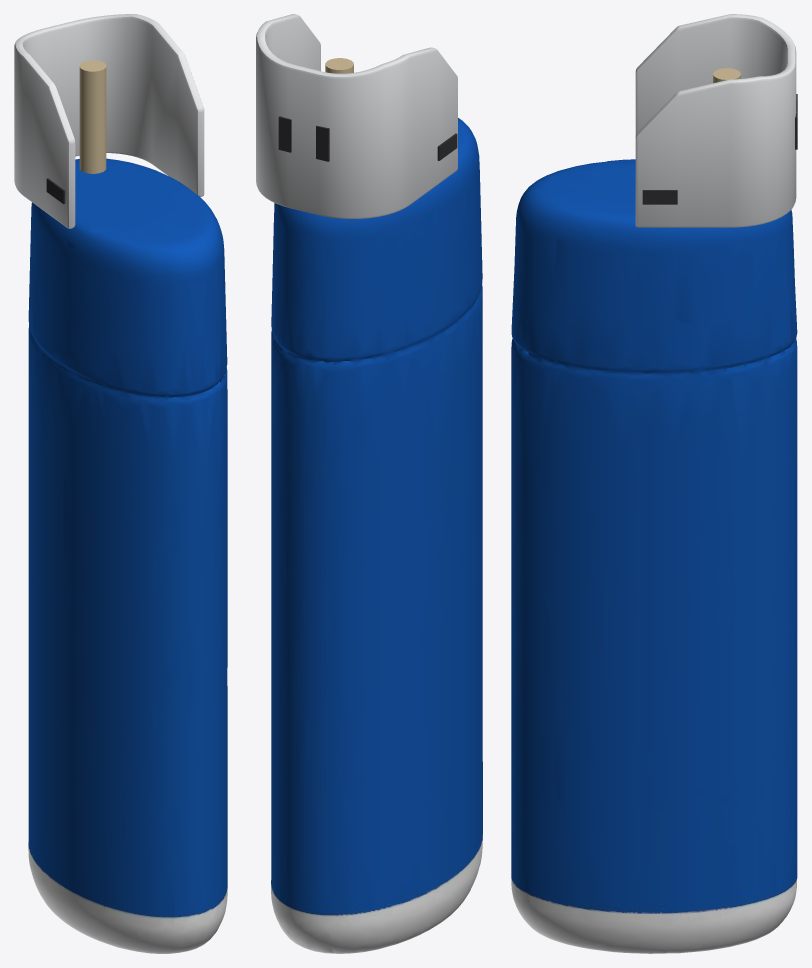
The model's file is lighter.glb.
3 renders of one model, left to right at view 1: azimuth 30°, elevation 25°; view 2: azimuth 150°, elevation 25°; view 3: azimuth 270°, elevation 25°, orthographic. The views are drawn at different scales.
Visible parts, largest first — view 1: body, hood, nozzle; view 2: body, hood, vent; view 3: body, hood, vent.
Boxes of the visible parts, x1,y1,x2,y2 form: body: [28, 158, 227, 953]; hood: [14, 14, 204, 228]; nozzle: [79, 60, 106, 173]; body: [271, 118, 482, 953]; hood: [256, 14, 457, 218]; vent: [278, 116, 457, 161]; body: [511, 159, 797, 953]; hood: [635, 14, 796, 227]; vent: [642, 94, 797, 204].
Size of the model in its own units: 0.148 by 0.835 by 0.2443.
Materials: 7 (2 with a texture image).
